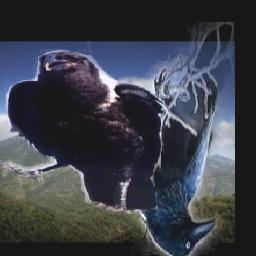Crow: (3, 50, 165, 215), (128, 22, 234, 256)
